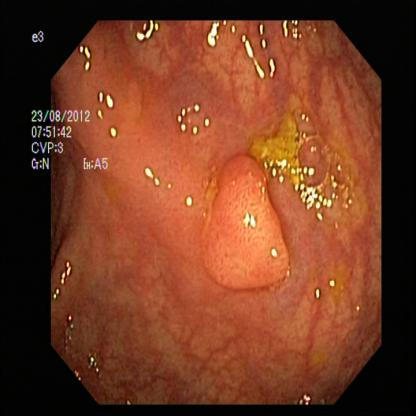Labels: (30, 26, 109, 173)
Polyps: (202, 152, 286, 292)
